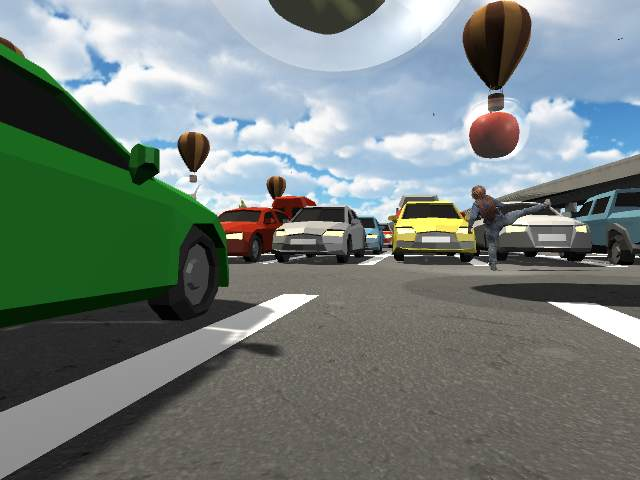turn_right: (464, 184, 552, 273)
